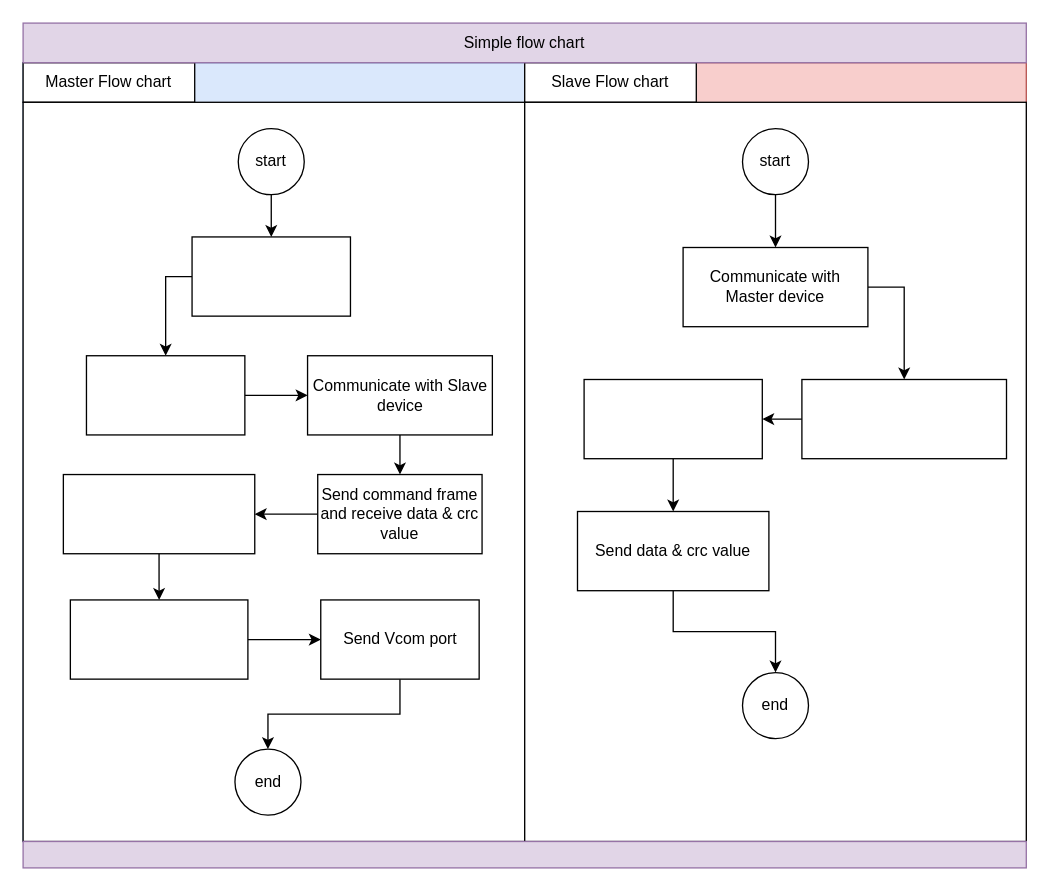
The diagram is 1049 pixels wide and 891 high, and some of its shapes have lost their labels. Each missing label, with the centre of its shape:
Calculate crc32 of received data: [158,513]
Calculate crc32 of relevant data: [672,418]
Compare crc32 values: [158,639]
Define command: [165,394]
Read Vcom port: [270,276]
Receive command frame: [903,418]
